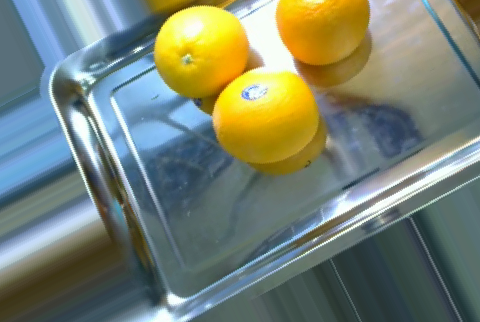Orange: (211, 66, 319, 162), (154, 4, 249, 97), (275, 0, 371, 65)
